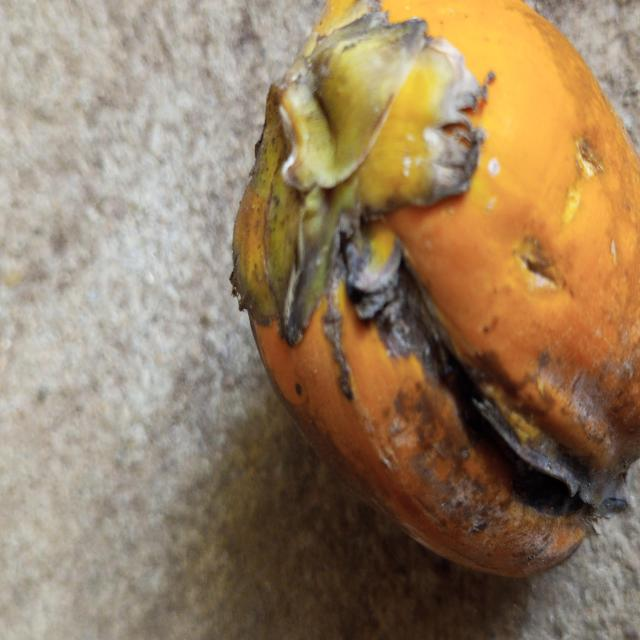damaged: (230, 0, 640, 581)
